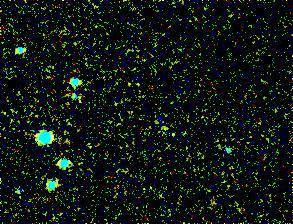star: (159, 120, 189, 150)
